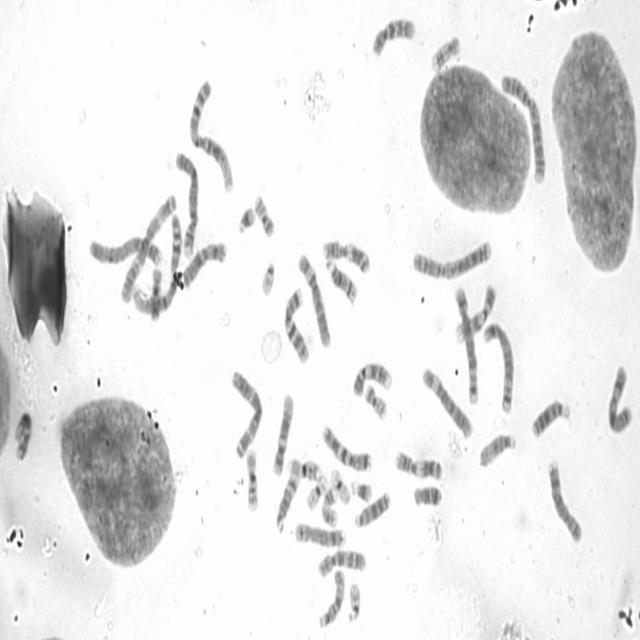A1: (188, 76, 234, 194), (132, 213, 182, 317)
A2: (499, 72, 546, 184), (410, 237, 493, 281)
A3: (119, 194, 178, 308), (228, 369, 264, 461)
B4: (174, 150, 199, 259), (89, 235, 162, 269)
B5: (453, 284, 479, 404), (484, 321, 515, 416)
C10: (370, 15, 420, 60), (318, 547, 368, 578)
C11: (322, 239, 371, 275), (394, 450, 443, 482)
C12: (272, 392, 294, 478), (12, 406, 34, 465)
C6: (421, 364, 474, 442), (297, 251, 332, 350)
C7: (322, 422, 372, 474), (284, 286, 311, 366)
C8: (545, 461, 585, 547), (294, 522, 346, 550)
C9: (451, 280, 497, 346), (353, 359, 394, 398)
D13: (530, 400, 570, 442), (354, 490, 391, 530)
D14: (324, 257, 360, 308), (274, 470, 300, 536)
D15: (318, 568, 345, 630), (478, 431, 520, 470)
E16: (243, 445, 259, 514), (287, 456, 322, 484)
E17: (432, 35, 461, 71), (319, 486, 339, 528)
E18: (148, 265, 165, 323), (411, 484, 443, 510)
F19: (330, 465, 351, 506), (305, 474, 328, 510)
F20: (254, 193, 275, 239), (364, 383, 387, 422)
G21: (350, 478, 372, 506), (236, 207, 256, 236)
G22: (346, 581, 362, 626), (260, 259, 276, 299)
X: (182, 239, 227, 293), (607, 363, 632, 437)
